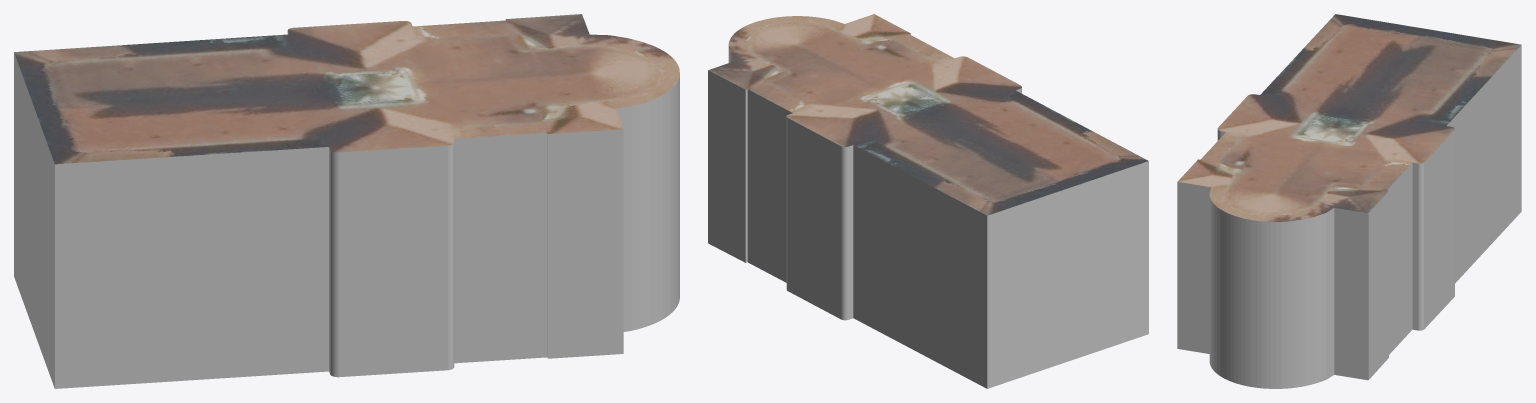
Rendered from DEBW_0010007Txbe.gltf.
3 renders of one model, left to right at view 1: azimuth 30°, elevation 25°; view 2: azimuth 150°, elevation 25°; view 3: azimuth 270°, elevation 25°, orthographic. The views are drawn at different scales.
Parts seen in each view (by area): view 1: Z_UP; view 2: Z_UP; view 3: Z_UP.
Part boxes in pixels (x1=…): Z_UP: x1=14, y1=14, x2=679, y2=388; Z_UP: x1=708, y1=14, x2=1148, y2=388; Z_UP: x1=1177, y1=14, x2=1521, y2=388.
Bounding box in the file's own units: 54.78 × 20.52 × 38.33.
Materials: 2 (1 with a texture image).
